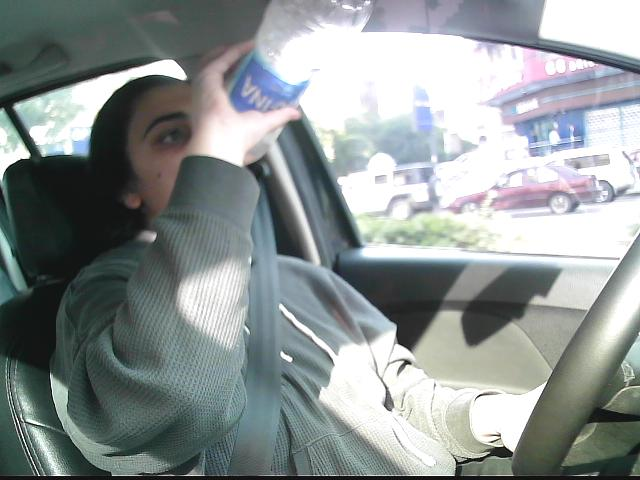Drinking: (209, 3, 379, 177)
